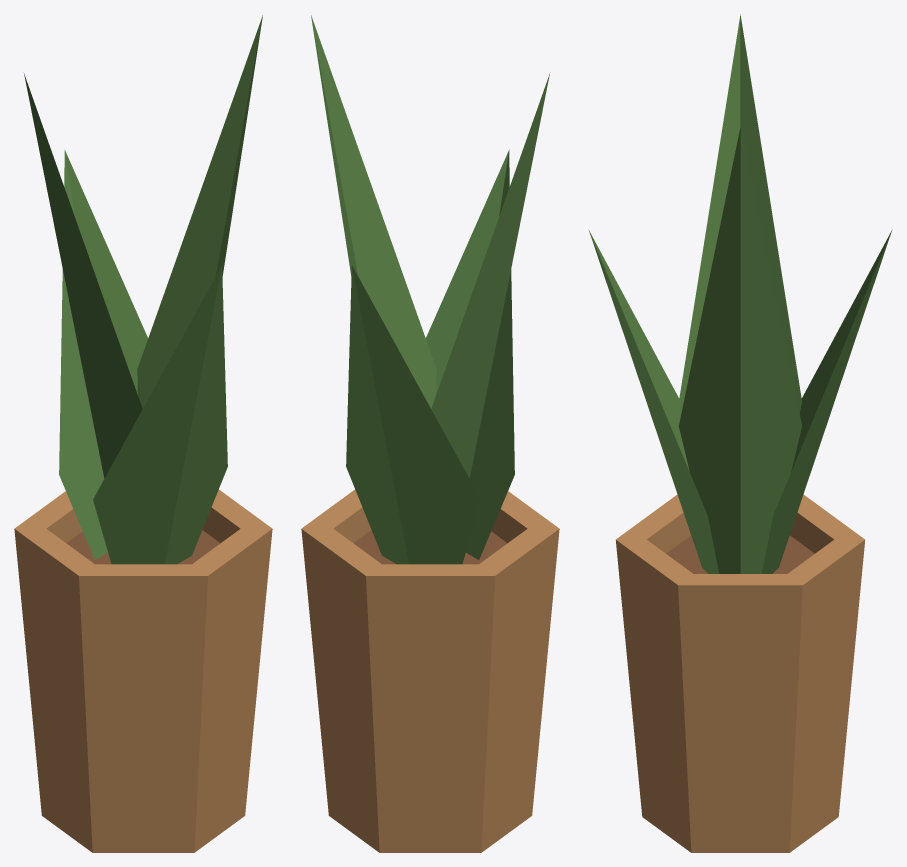
File: kitPottedPlant.glb
3 renders of one model, left to right at view 1: azimuth 30°, elevation 25°; view 2: azimuth 150°, elevation 25°; view 3: azimuth 270°, elevation 25°, orthographic. The views are drawn at different scales.
Visible parts, largest first — view 1: kitPottedPlant_wood, kitPottedPlant_leaf, kitPottedPlant_woodDark; view 2: kitPottedPlant_wood, kitPottedPlant_leaf, kitPottedPlant_woodDark; view 3: kitPottedPlant_wood, kitPottedPlant_leaf, kitPottedPlant_woodDark.
Part boxes in pixels (x1=…): kitPottedPlant_wood: x1=14, y1=489, x2=272, y2=852; kitPottedPlant_leaf: x1=24, y1=15, x2=262, y2=564; kitPottedPlant_woodDark: x1=66, y1=530, x2=220, y2=564; kitPottedPlant_wood: x1=301, y1=489, x2=559, y2=852; kitPottedPlant_leaf: x1=311, y1=15, x2=549, y2=564; kitPottedPlant_woodDark: x1=353, y1=530, x2=507, y2=564; kitPottedPlant_wood: x1=615, y1=494, x2=865, y2=852; kitPottedPlant_leaf: x1=588, y1=14, x2=892, y2=573; kitPottedPlant_woodDark: x1=666, y1=535, x2=814, y2=573.
Size of the model in its own units: 0.4241 by 1.31 by 0.4829.
